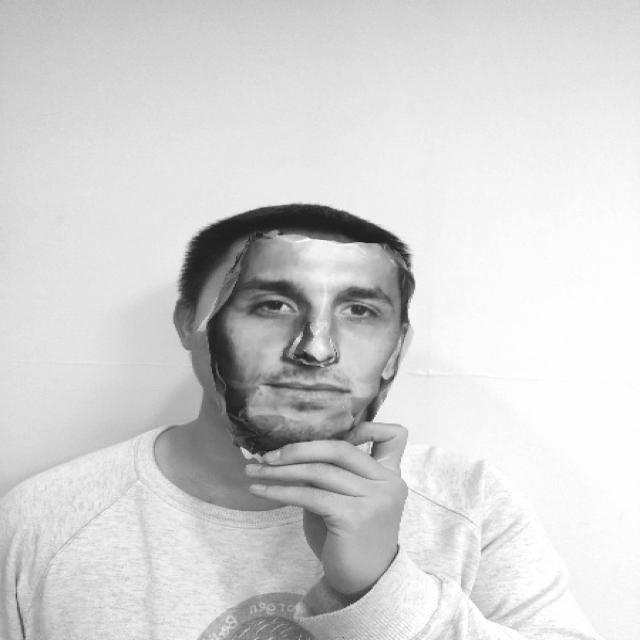fake: (168, 198, 416, 450)
